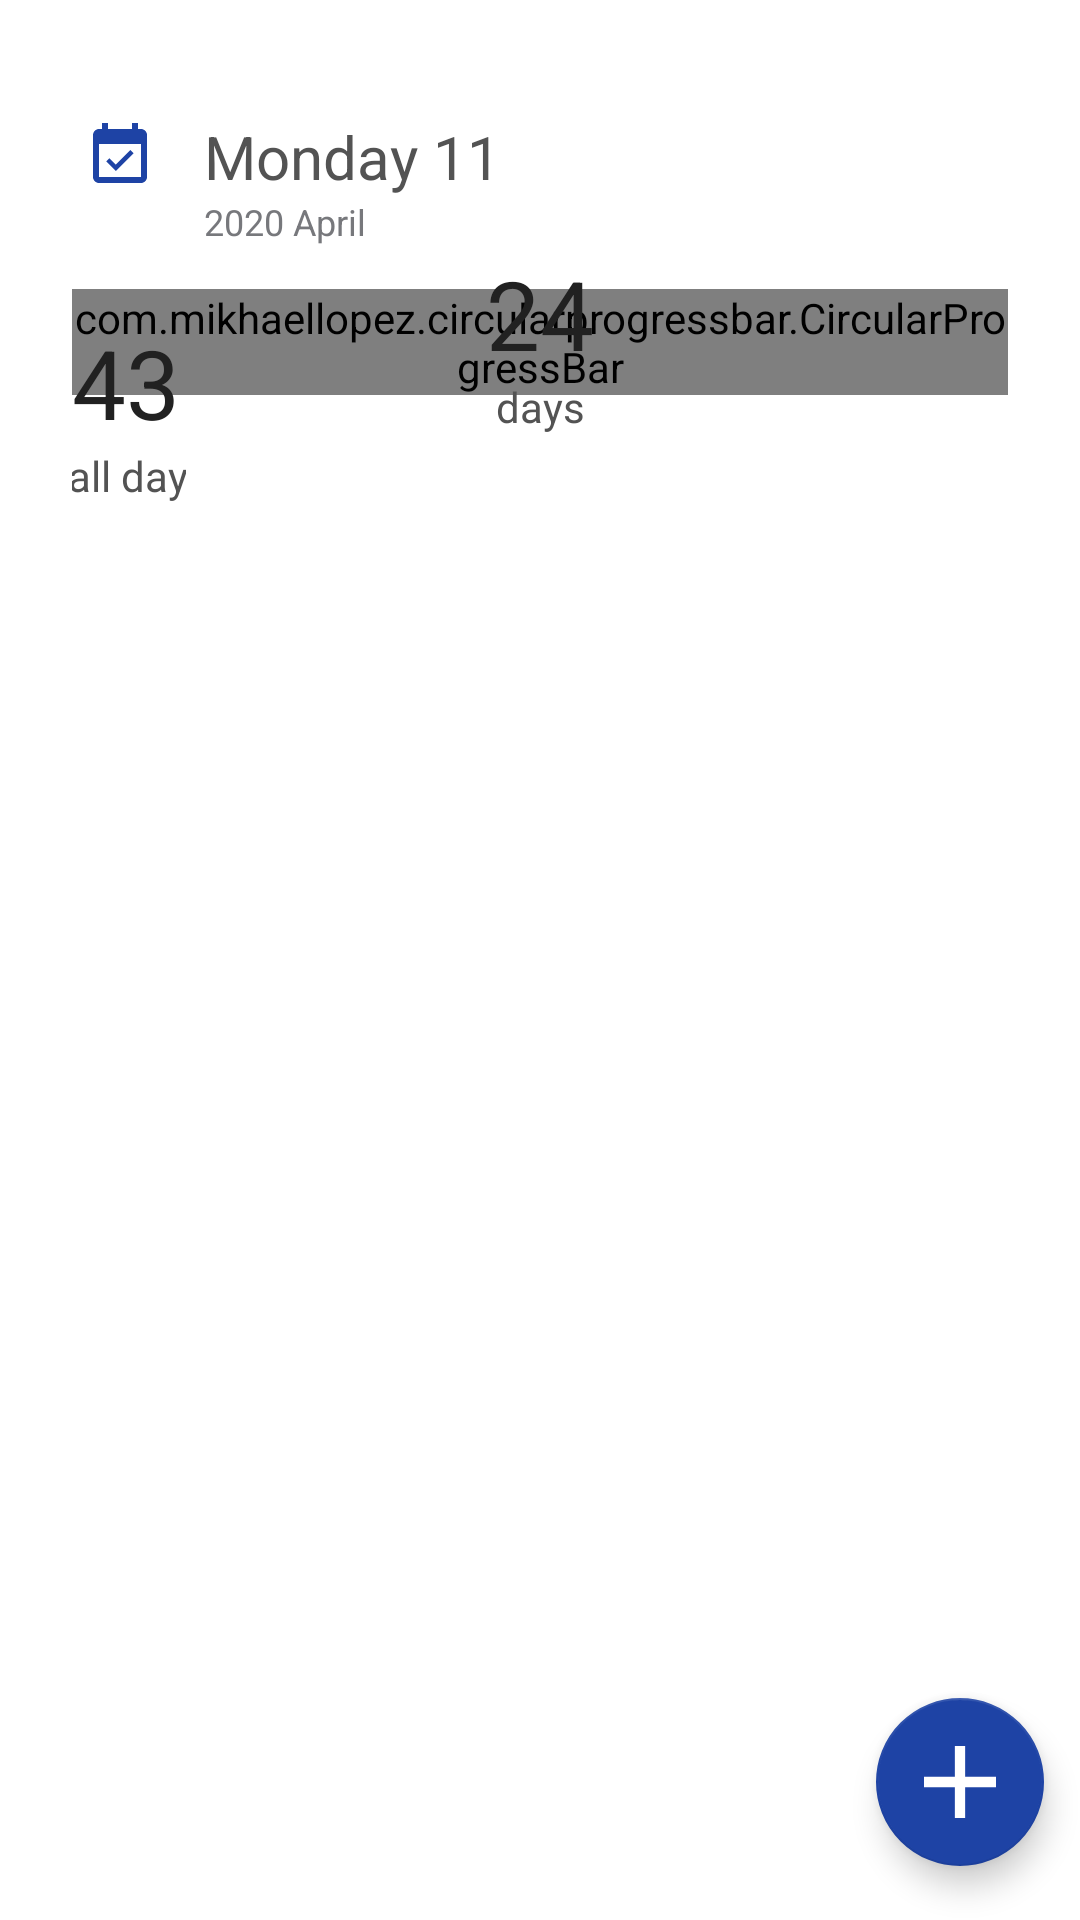

Icons on this 1080 x 1920 Android screen, each with the point to tap as (x,y):
add: (961,1791)
event: (120,153)
